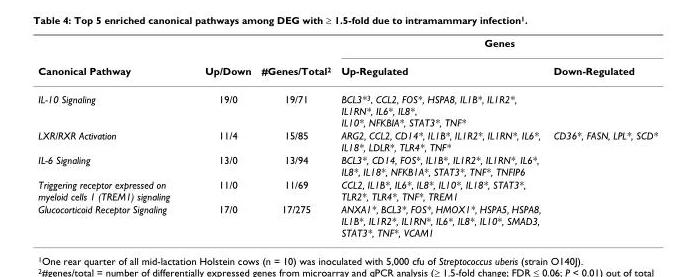table: (37, 36, 657, 238)
table column: (335, 36, 546, 238), (37, 36, 186, 238), (546, 36, 657, 238), (255, 36, 335, 238), (186, 36, 255, 238)
table column header: (37, 36, 657, 84)
table row: (37, 84, 657, 128), (37, 202, 657, 238), (37, 56, 657, 84), (37, 128, 657, 153), (37, 177, 657, 202), (37, 153, 657, 177), (37, 36, 657, 56)
table spanning cell: (37, 36, 186, 84), (335, 36, 657, 56), (255, 36, 335, 84), (186, 36, 255, 84)
